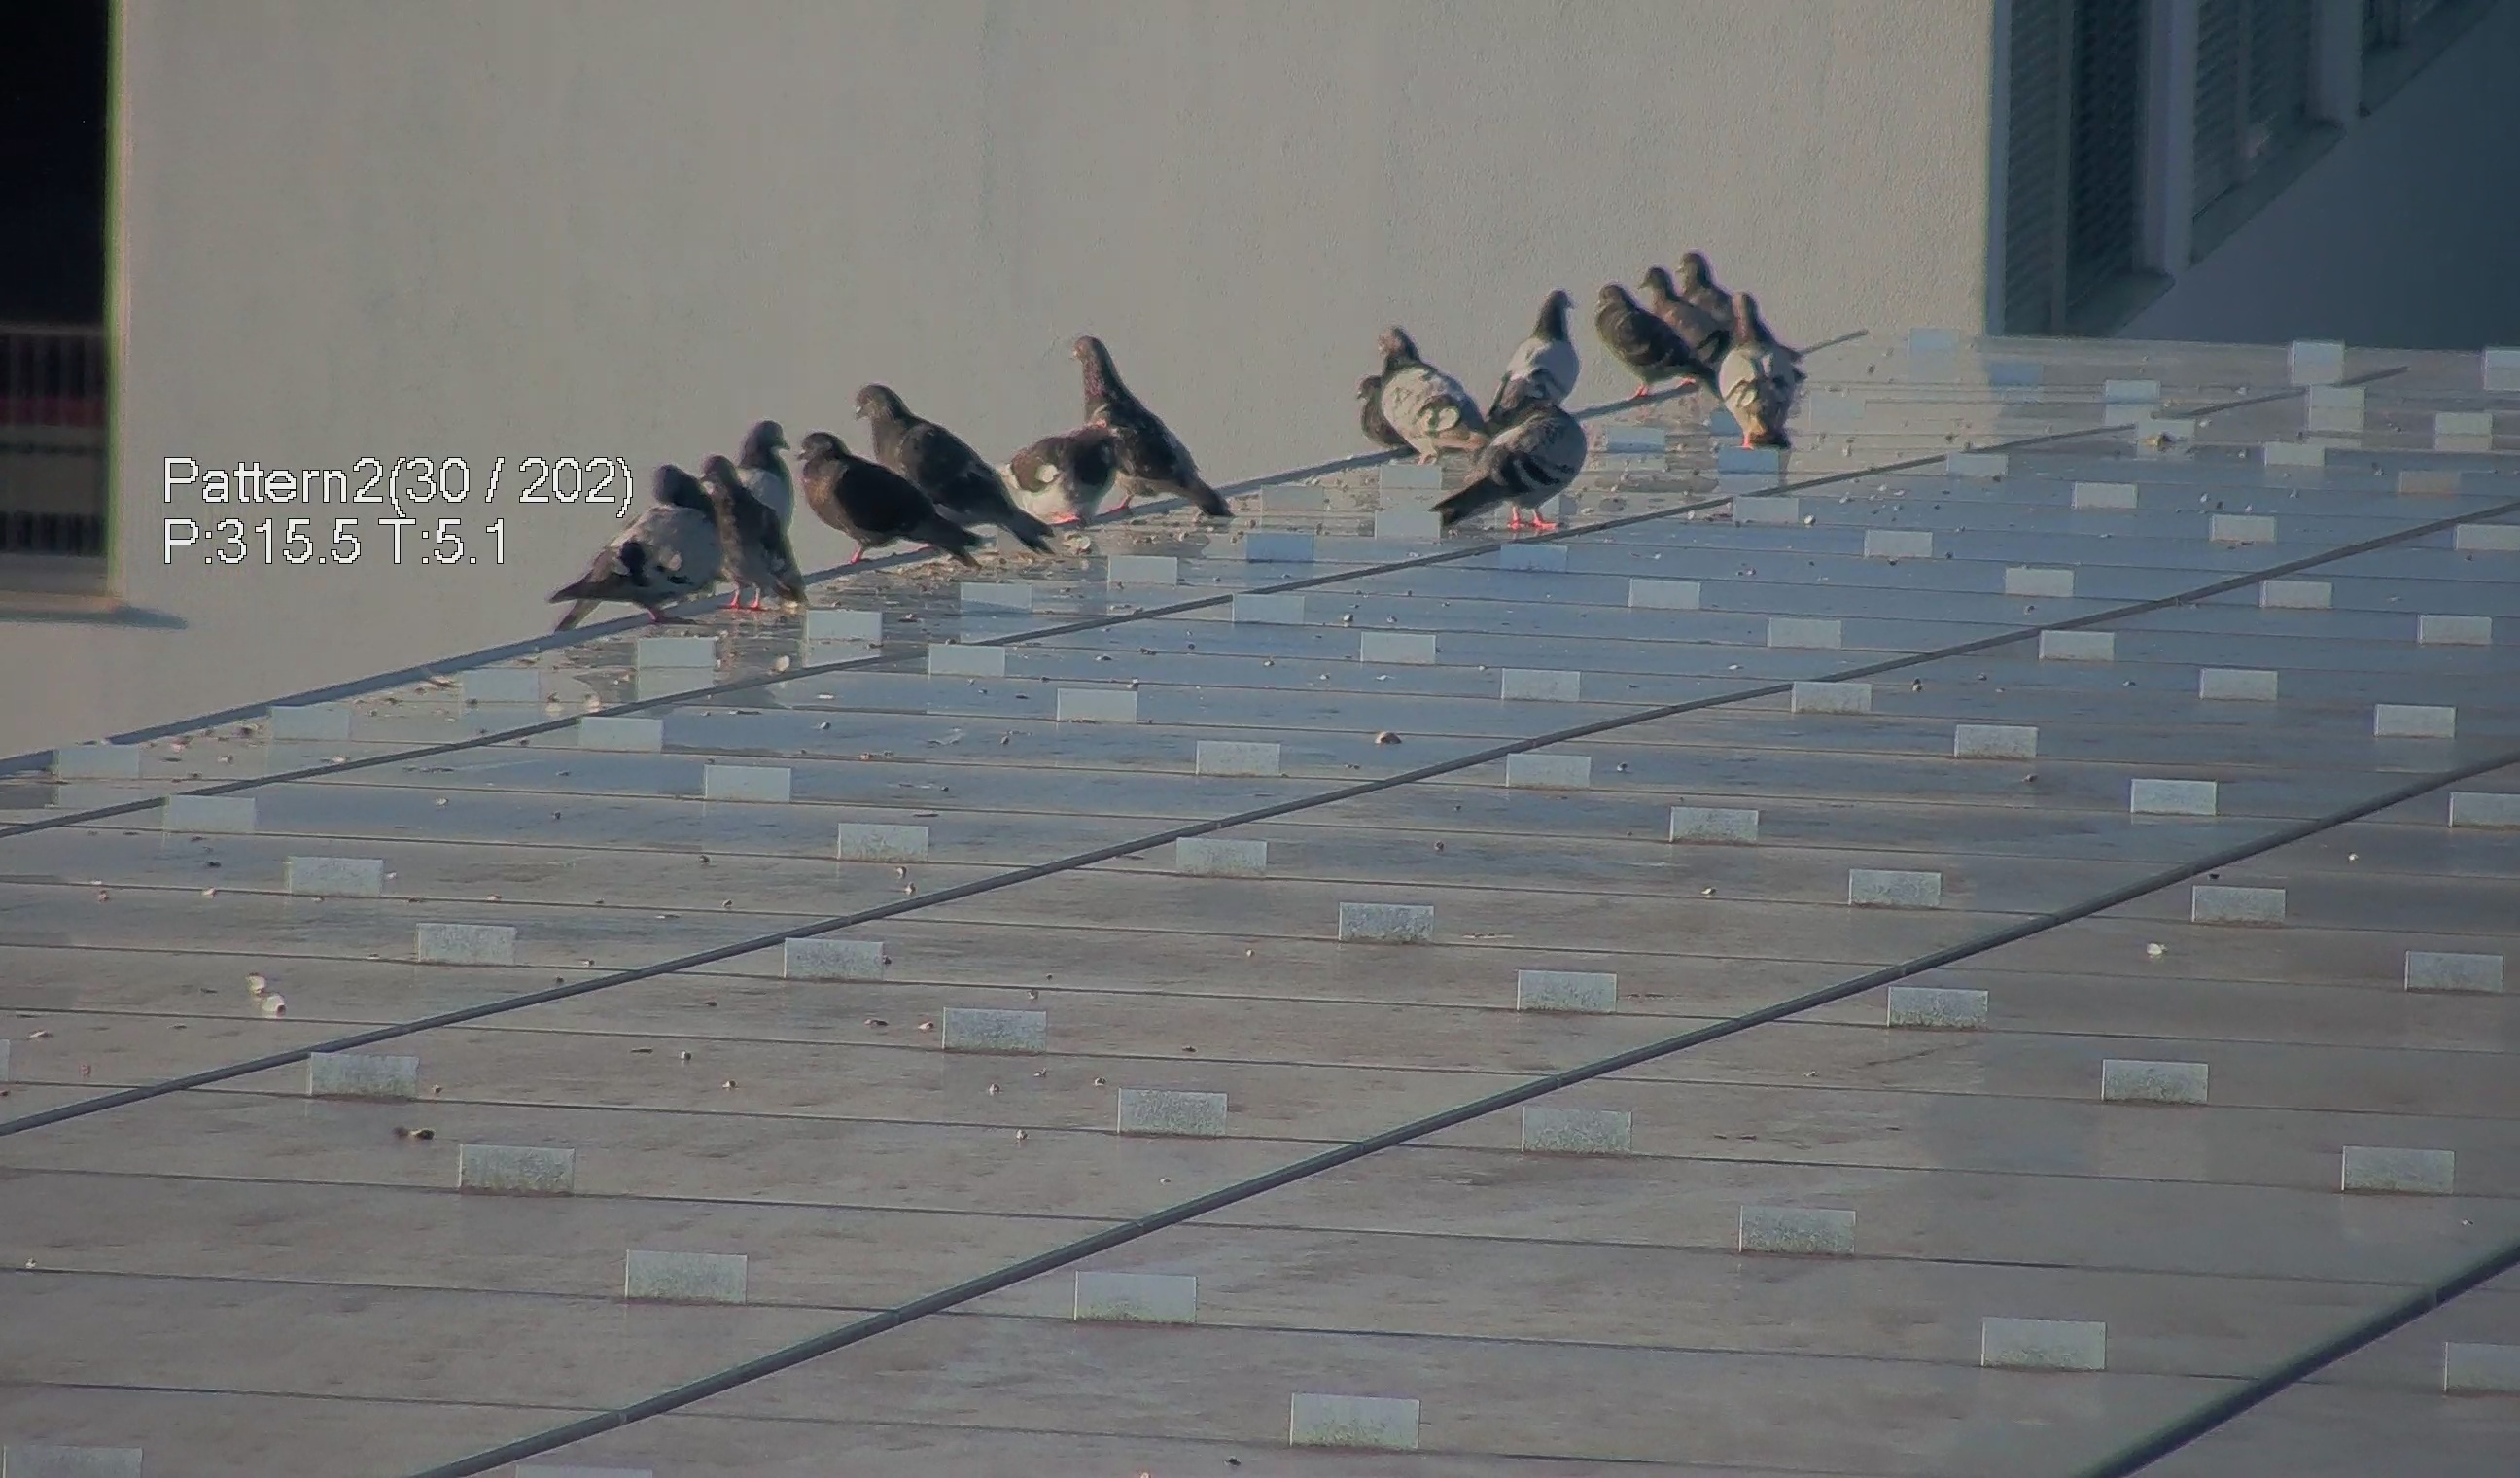Pigeon: (781, 377, 1059, 570), (1069, 317, 1236, 533), (844, 377, 1029, 547), (779, 421, 971, 575), (531, 454, 703, 625), (1433, 384, 1590, 544), (1359, 317, 1486, 468), (992, 396, 1133, 531), (684, 457, 795, 602), (1484, 282, 1577, 419), (1595, 280, 1708, 391), (1722, 285, 1792, 456), (1641, 248, 1741, 354), (721, 406, 798, 526)
